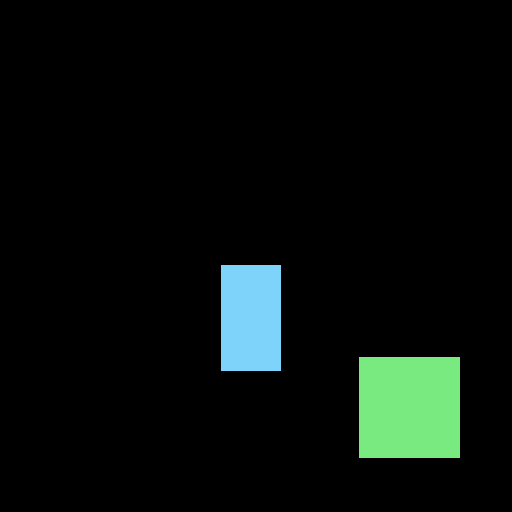rectangle: (221, 265, 280, 370)
square: (359, 357, 459, 457)
